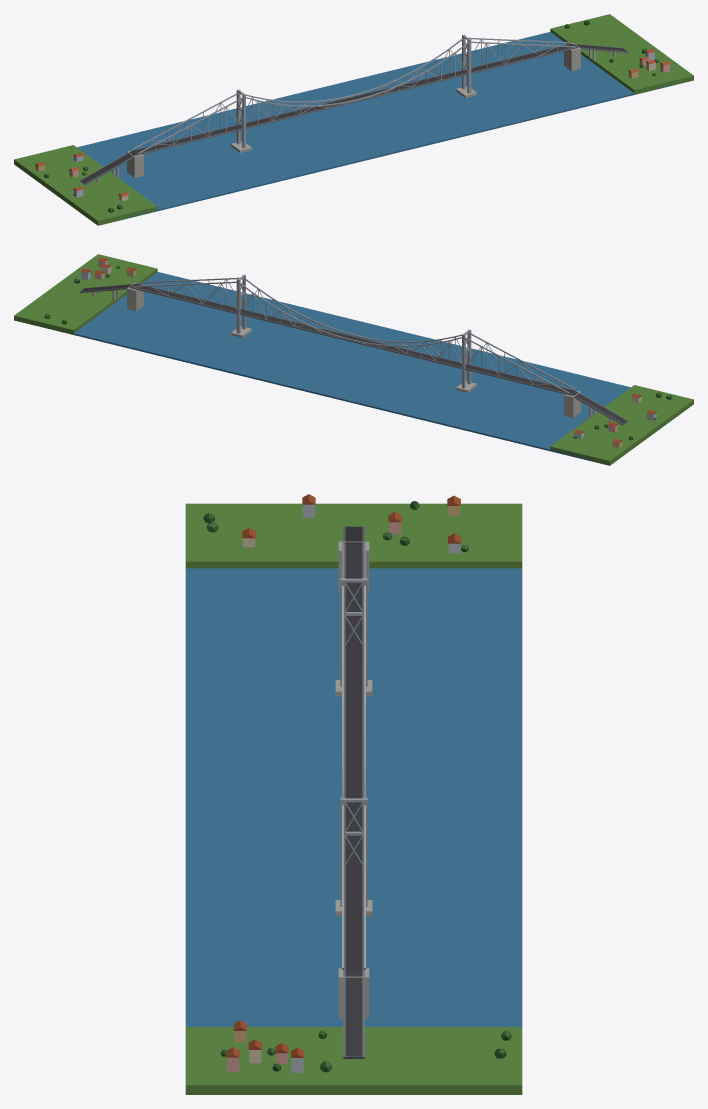
File: ponte_hercilio_luz.glb
3 views of the same model, one above another, from view 1: azimuth 30°, elevation 25°; view 2: azimuth 150°, elevation 25°; view 3: azimuth 270°, elevation 25° (orthographic). The views are drawn at different scales.
Visible parts, largest first — view 1: ponte_hercilio_luz; view 2: ponte_hercilio_luz; view 3: ponte_hercilio_luz.
Part boxes in pixels (<box>): ponte_hercilio_luz: <box>14,14,693,225</box>; ponte_hercilio_luz: <box>14,254,693,465</box>; ponte_hercilio_luz: <box>185,494,522,1094</box>.
Bounding box in the file's own units: 900 × 83 × 220.
